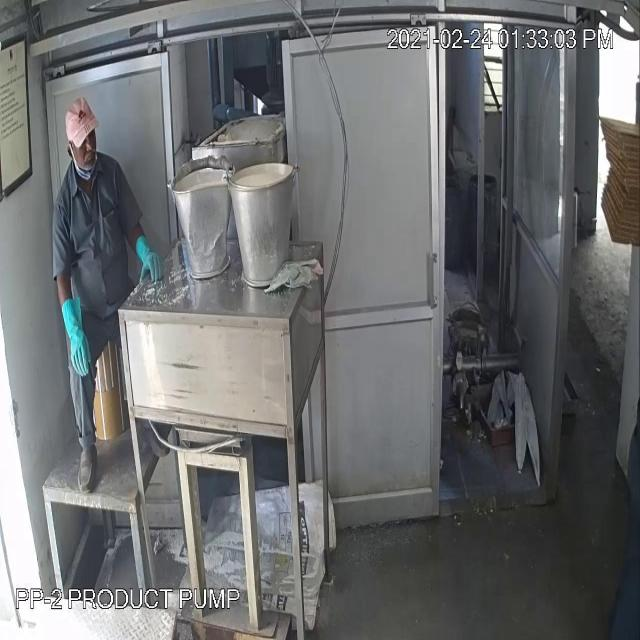no-helmet: (61, 85, 105, 154)
